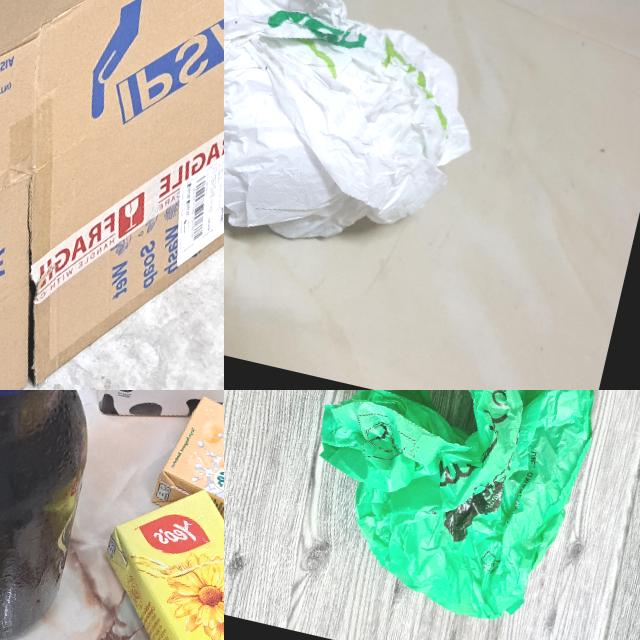caixinha: (61, 468, 224, 640), (138, 392, 224, 606), (74, 390, 224, 445)
garrafa de vidro: (0, 390, 137, 640)
papelão: (0, 0, 224, 390)
sacola plástica: (224, 0, 501, 325), (282, 390, 618, 638)
